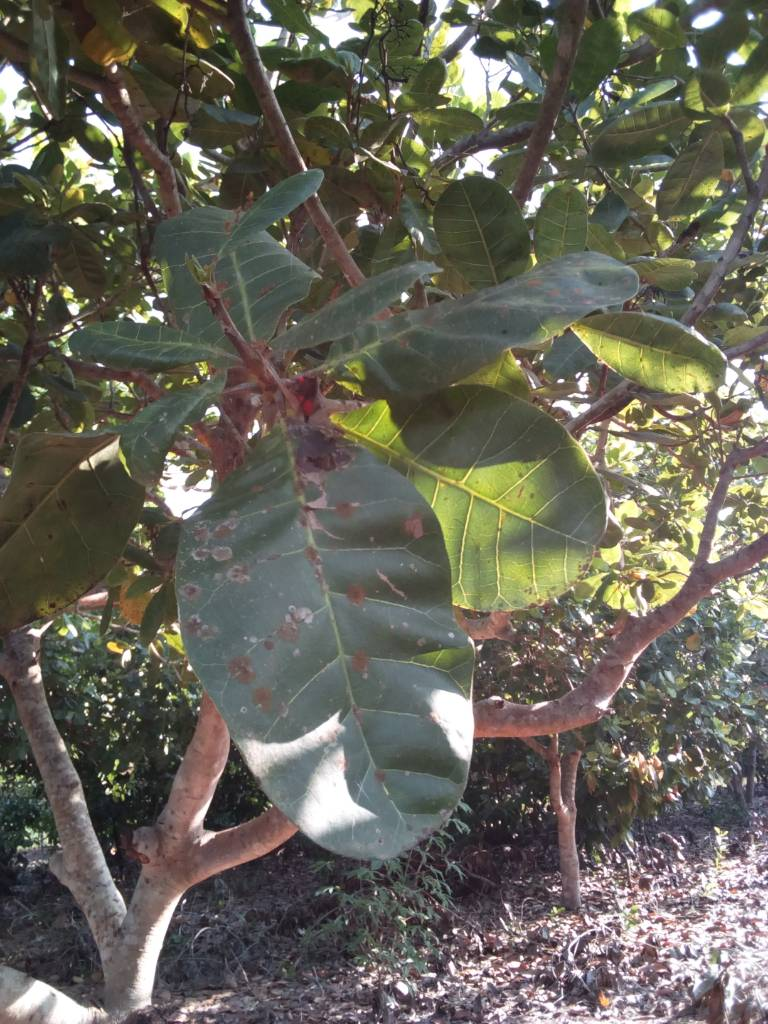Rouille: (143, 421, 543, 864)
